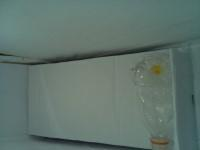bottle: (132, 51, 173, 150)
